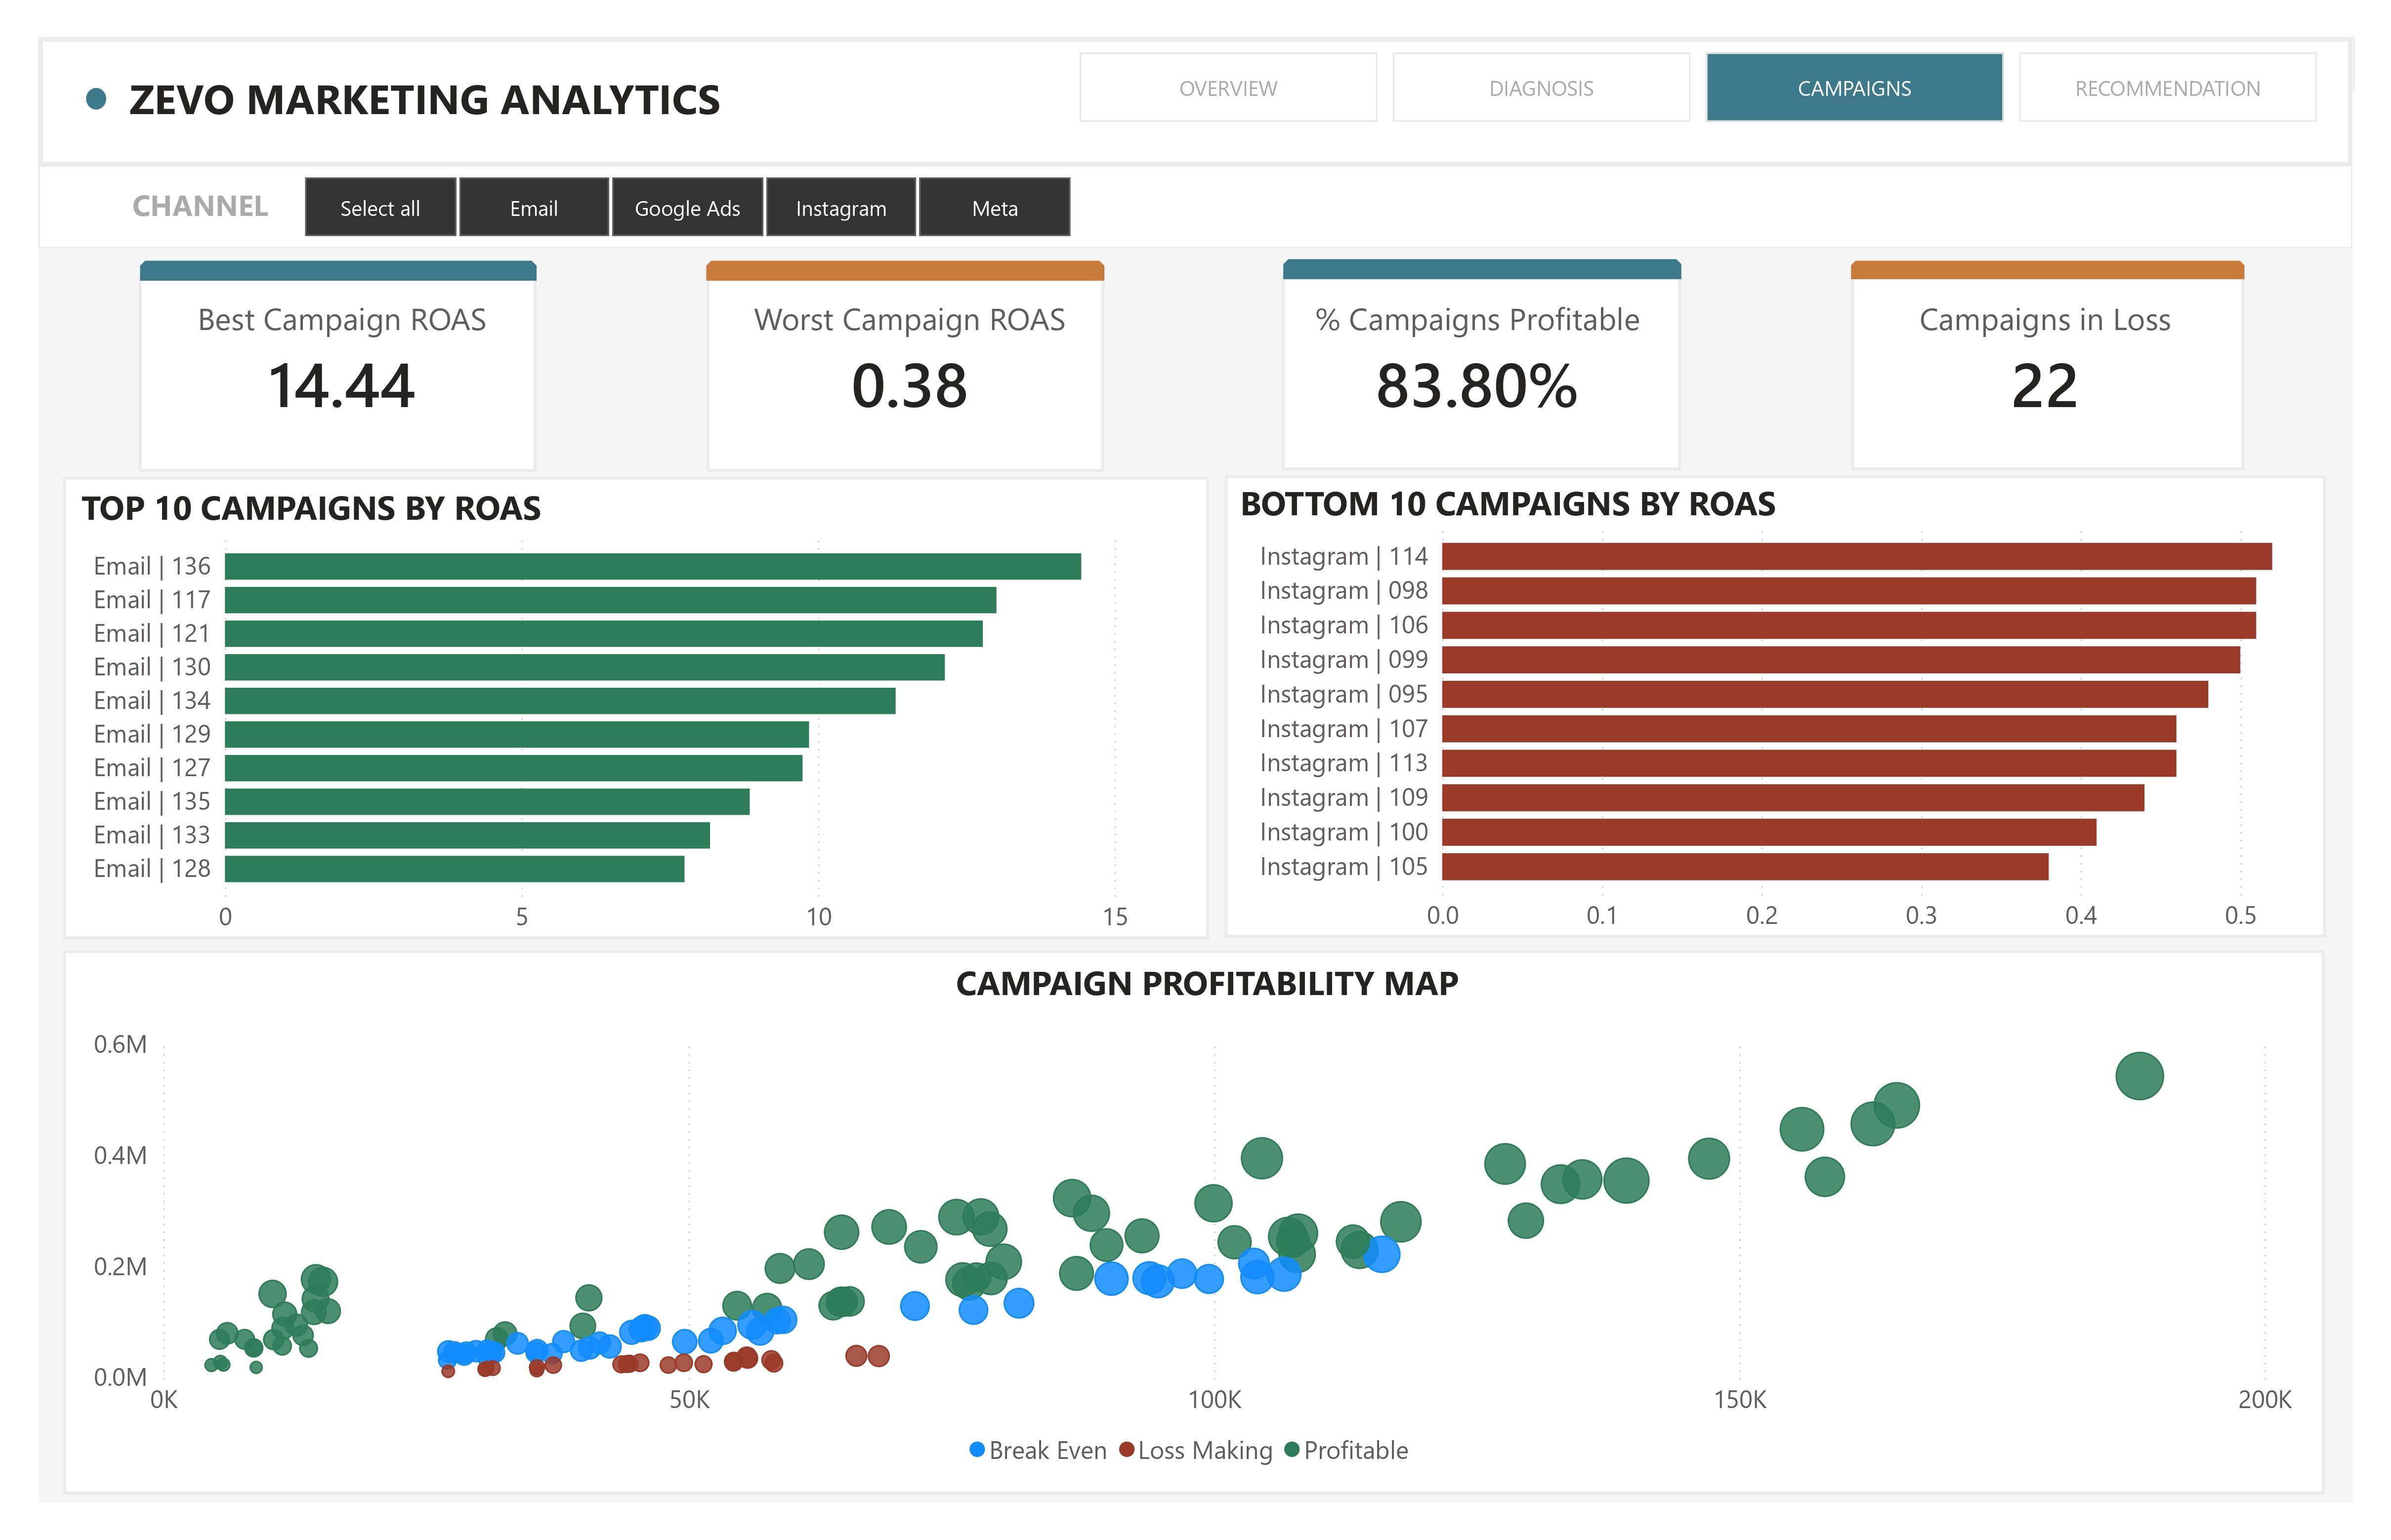

Layout of this report page (visuals, bound fields, positions):
{"tool":"powerbi","page":{"name":"CAMPAIGNS","canvas":[1500,950],"ordinal":2},"visuals":[{"type":"shape","title":"Canvas BG","box":[0,0,1500,950],"z":0},{"type":"shape","title":"Slicer Bar","box":[0,80.9,1500,55.9],"z":0,"group":"g4"},{"type":"shape","box":[433.5,145.8,258,12.5],"z":0,"group":"g2"},{"type":"shape","box":[806.7,154.3,258.8,127.2],"z":0,"group":"g1"},{"type":"shape","title":"Box 1","box":[15.7,284.3,743.1,300],"z":0,"group":"g3"},{"type":"shape","box":[65.5,154.6,258.2,128.2],"z":500,"group":"g1"},{"type":"shape","box":[433.7,153.7,258.2,128.2],"z":750,"group":"g1"},{"type":"shape","title":"Title BAR","box":[0,0,1500,84],"z":1000,"group":"g4"},{"type":"group","id":"g1","title":"Card Box","box":[65.5,144.3,1365.3,138.4],"z":1000},{"type":"shape","box":[1175.2,145.4,255.6,12.2],"z":1000,"group":"g2"},{"type":"shape","box":[1175.5,153.1,255,128.4],"z":1000,"group":"g1"},{"type":"shape","title":"Box 2","box":[768.9,283.5,713.8,300],"z":1000,"group":"g3"},{"type":"textbox","title":"Zevo title","box":[54,16,434,54],"z":2000,"group":"g4"},{"type":"cardVisual","fields":{"Data":["_Campaign measures.Best Campaign ROAS","_Campaign measures.Worst Campaign ROAS","_Campaign measures.% Campaigns Profitable","_Campaign measures.Campaigns in Loss"]},"box":[0,144.3,1500,130],"z":2000},{"type":"group","id":"g2","title":"Top Bars","box":[66.3,144.3,1364.4,14],"z":2000,"group":"g1"},{"type":"shape","box":[66.3,145.7,257.3,12.5],"z":2000,"group":"g2"},{"type":"shape","title":"Box 3","box":[15.8,591.9,1465.6,352.5],"z":2000,"group":"g3"},{"type":"shape","title":"Zevo DOT","box":[30.8,33.3,13.3,13.3],"z":3000,"group":"g4"},{"type":"shape","box":[806.9,144.3,258.3,13.3],"z":3000,"group":"g2"},{"type":"group","id":"g3","title":"Boxes","box":[15.7,283.5,1467.1,660.9],"z":3000},{"type":"barChart","title":"Top 10 Campaigns — All Email","fields":{"Category":["mart mart_campaign_performance.Short Campaign Name"],"Y":["Sum(mart mart_campaign_performance.roas)"]},"box":[22.9,312.9,727.1,278.6],"z":4000},{"type":"barChart","title":"Bottom 10 Campaigns — All Instagram 2024","fields":{"Y":["Sum(mart mart_campaign_performance.roas)"],"Category":["mart mart_campaign_performance.Short Campaign Name"]},"box":[777.3,306.4,718.2,283.6],"z":5000},{"type":"scatterChart","title":"Campaign Profitability Map","fields":{"X":["Sum(mart mart_campaign_performance.total_spend)"],"Y":["Sum(mart mart_campaign_performance.total_revenue)"],"Category":["mart mart_campaign_performance.campaign_name"],"Size":["Sum(mart mart_campaign_performance.total_orders)"],"Series":["mart mart_campaign_performance.Zevo Verdict"]},"box":[30,636,1436,300],"z":6000},{"type":"group","id":"g4","title":"Title Works","box":[0,0,1500,136.8],"z":7000},{"type":"pageNavigator","box":[675,10,805,45],"z":8000},{"type":"slicer","fields":{"Values":["mart mart_campaign_performance.channel_name"]},"box":[147.1,84.3,545.7,51.4],"z":9000},{"type":"textbox","box":[23,285,335,42],"z":10000},{"type":"textbox","box":[774.2,281.7,370,40],"z":11000},{"type":"textbox","box":[590,592.5,357.5,43.8],"z":12000},{"type":"textbox","box":[56,90.7,103.3,38],"z":13000}]}

Visuals, with their boxes on the page's 1500x950 design canvas (x1, y1, x2, y2). These are canvas units, not pixel positions in the 2391x1540 screenshot, which may show the page scaled, cropped or inside an application window:
"Canvas BG" shape: pyautogui.locateOnScreen(0, 0, 1500, 950)
"Slicer Bar" shape: pyautogui.locateOnScreen(0, 81, 1500, 137)
shape: pyautogui.locateOnScreen(434, 146, 692, 158)
shape: pyautogui.locateOnScreen(807, 154, 1066, 282)
"Box 1" shape: pyautogui.locateOnScreen(16, 284, 759, 584)
shape: pyautogui.locateOnScreen(66, 155, 324, 283)
shape: pyautogui.locateOnScreen(434, 154, 692, 282)
"Title BAR" shape: pyautogui.locateOnScreen(0, 0, 1500, 84)
"Card Box" group: pyautogui.locateOnScreen(66, 144, 1431, 283)
shape: pyautogui.locateOnScreen(1175, 145, 1431, 158)
shape: pyautogui.locateOnScreen(1176, 153, 1430, 282)
"Box 2" shape: pyautogui.locateOnScreen(769, 284, 1483, 584)
"Zevo title" textbox: pyautogui.locateOnScreen(54, 16, 488, 70)
cardVisual - _Campaign measures.Best Campaign ROAS x _Campaign measures.Worst Campaign ROAS: pyautogui.locateOnScreen(0, 144, 1500, 274)
"Top Bars" group: pyautogui.locateOnScreen(66, 144, 1431, 158)
shape: pyautogui.locateOnScreen(66, 146, 324, 158)
"Box 3" shape: pyautogui.locateOnScreen(16, 592, 1481, 944)
"Zevo DOT" shape: pyautogui.locateOnScreen(31, 33, 44, 47)
shape: pyautogui.locateOnScreen(807, 144, 1065, 158)
"Boxes" group: pyautogui.locateOnScreen(16, 284, 1483, 944)
"Top 10 Campaigns — All Email" barChart: pyautogui.locateOnScreen(23, 313, 750, 592)
"Bottom 10 Campaigns — All Instagram 2024" barChart: pyautogui.locateOnScreen(777, 306, 1496, 590)
"Campaign Profitability Map" scatterChart: pyautogui.locateOnScreen(30, 636, 1466, 936)
"Title Works" group: pyautogui.locateOnScreen(0, 0, 1500, 137)
pageNavigator: pyautogui.locateOnScreen(675, 10, 1480, 55)
slicer - mart mart_campaign_performance.channel_name: pyautogui.locateOnScreen(147, 84, 693, 136)
textbox: pyautogui.locateOnScreen(23, 285, 358, 327)
textbox: pyautogui.locateOnScreen(774, 282, 1144, 322)
textbox: pyautogui.locateOnScreen(590, 592, 948, 636)
textbox: pyautogui.locateOnScreen(56, 91, 159, 129)
